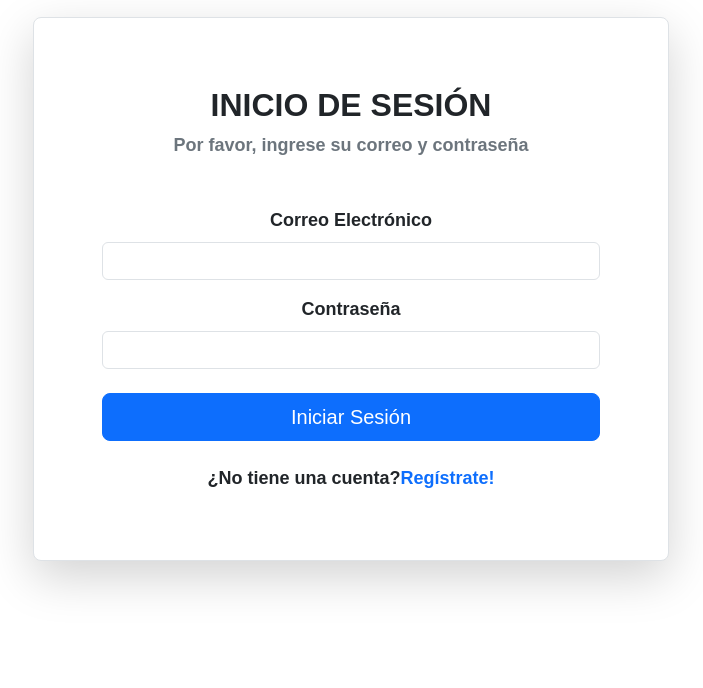
Test: LoginPage se renderiza con los campos y permite escribir en ellos
Expected: the heading "Inicio de Sesión" is shown, [210,87,491,123]
Expected: the password field labelled "Contraseña" is shown, [102,331,600,369]
# Simular que el usuario escribe en los campos
Step 1. Type "usuario@example.com" into the field labelled "Correo Electrónico" → (351, 261), box [102,242,600,280]
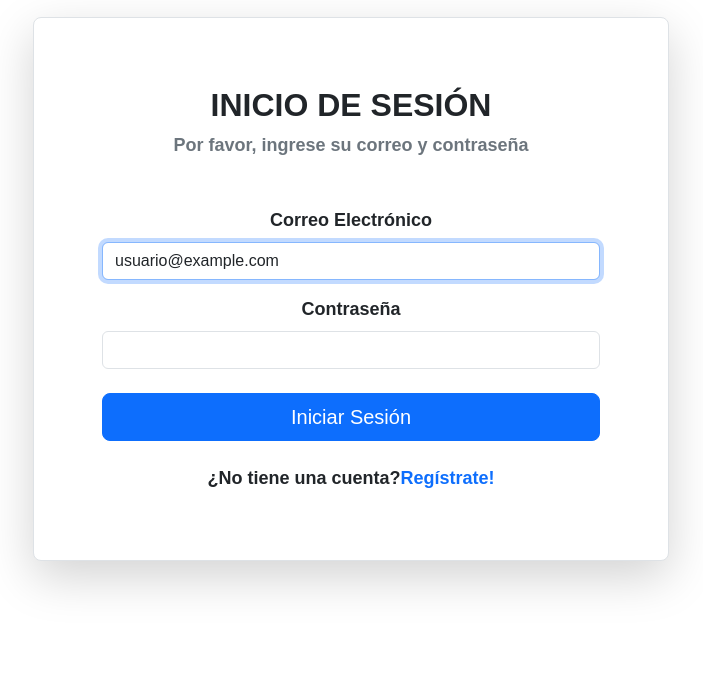
Step 2. Type "miContrasenia123" into the password field labelled "Contraseña" → (351, 350), box [102,331,600,369]
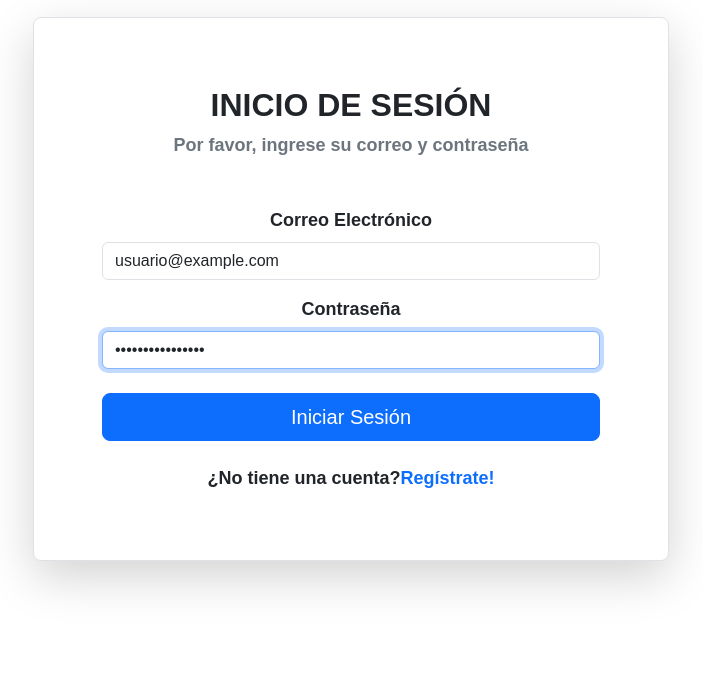
# Simular clic en Iniciar Sesión
Step 3. Click the button "Iniciar Sesión" → (351, 417), box [102,393,600,441]
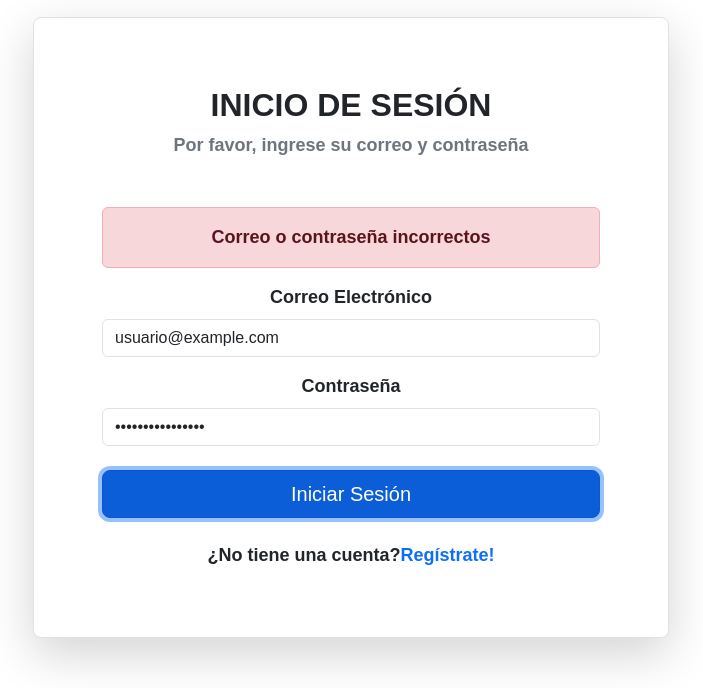
Result: the message reads "Correo o contraseña incorrectos" at [212,227,491,247]
Result: the text "Correo o contraseña incorrectos" is shown at [102,207,600,268]
